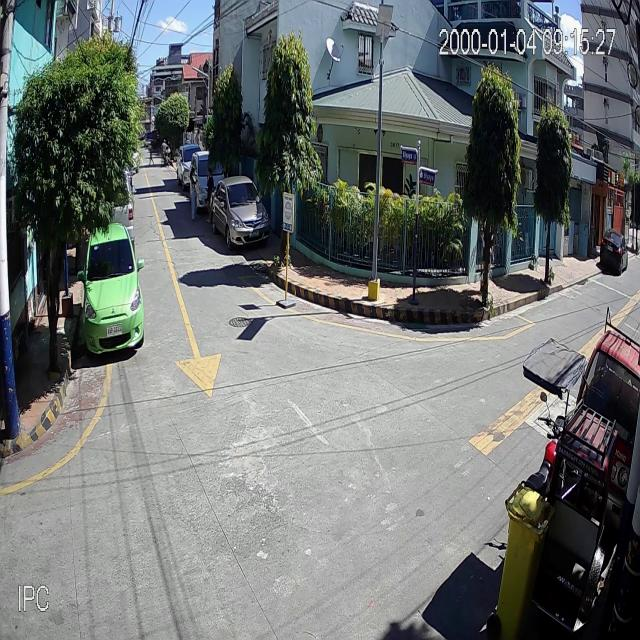standing: (188, 166, 201, 221), (204, 166, 215, 223)
walking: (160, 139, 167, 165), (147, 142, 154, 167)
